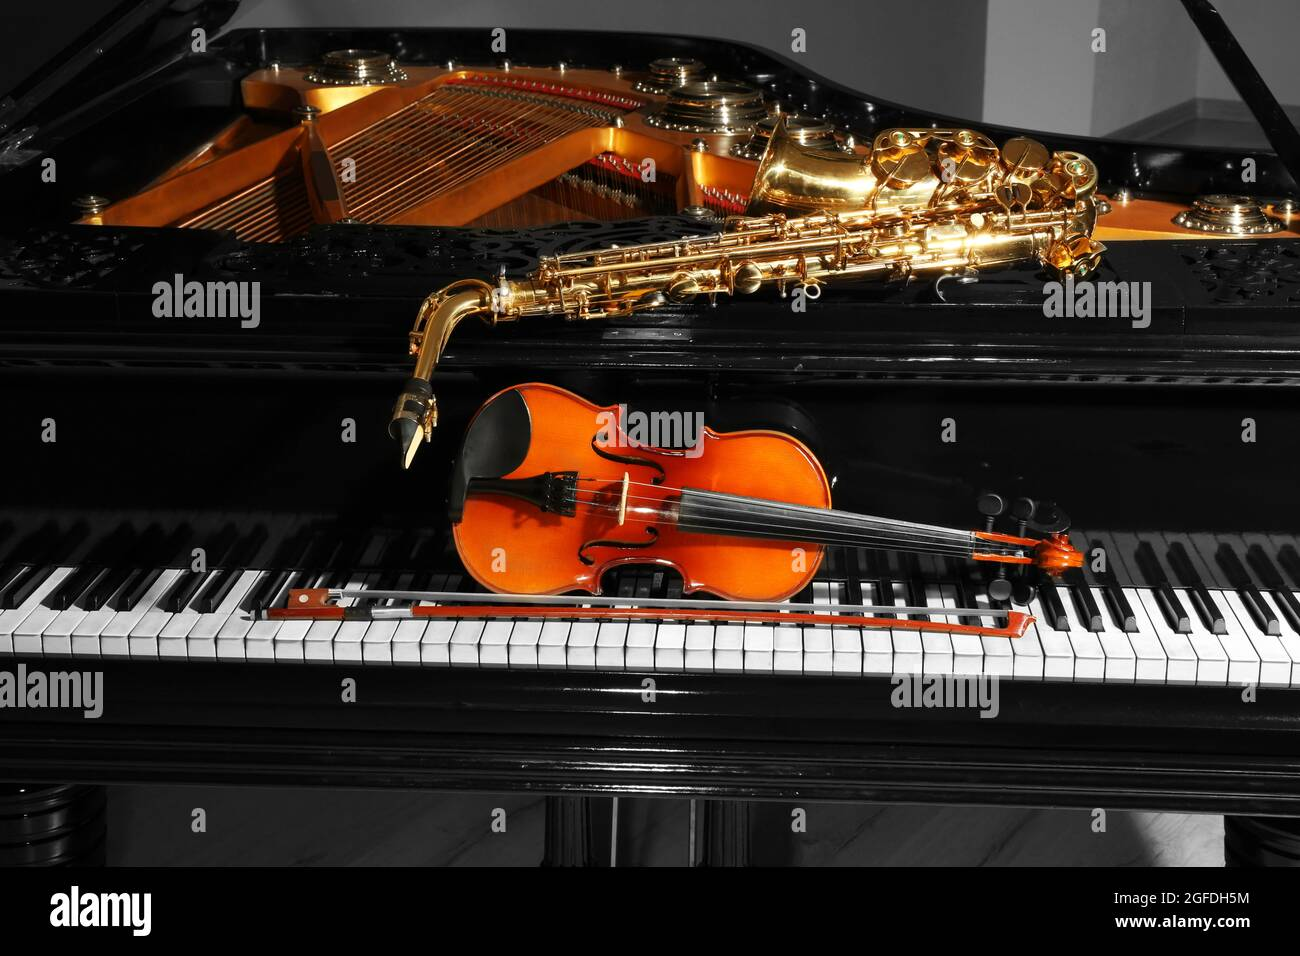Piano: (1, 355, 1300, 823)
Saxophone: (344, 123, 1140, 462)
Violin: (411, 347, 1186, 676)
